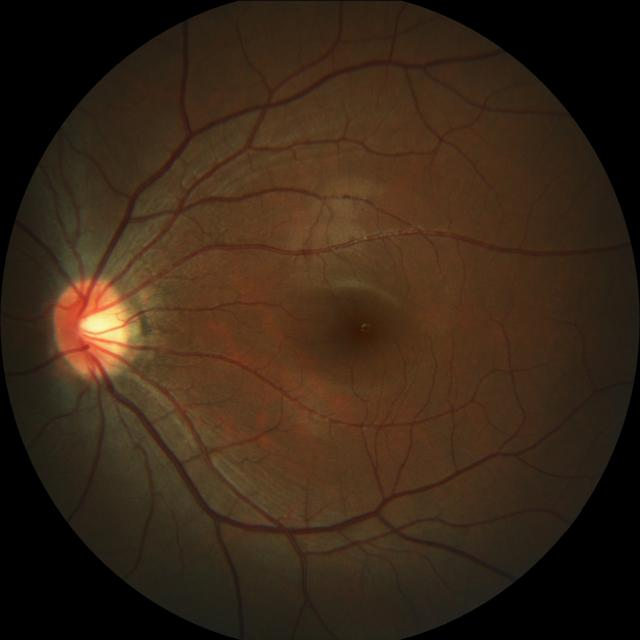OC: (72, 295, 121, 350)
OD: (51, 277, 130, 377)
